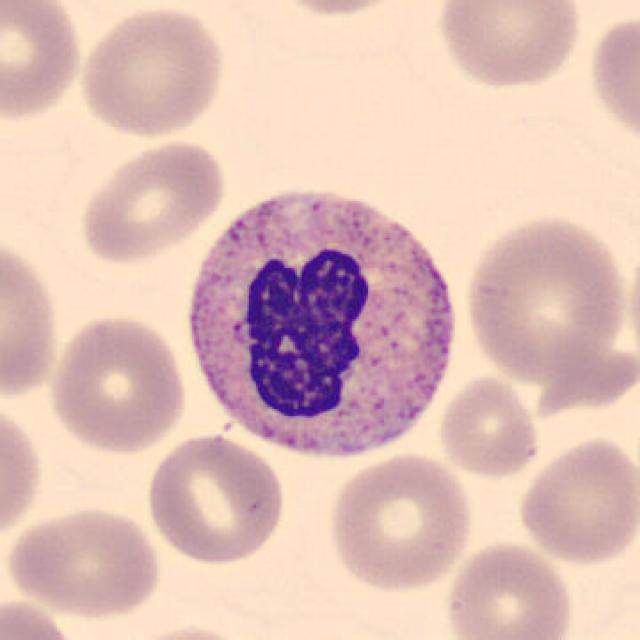Neutrophil: (176, 178, 469, 476)
RBC: (461, 212, 631, 386), (324, 448, 476, 596), (44, 310, 192, 457), (75, 2, 229, 141), (74, 136, 228, 266), (142, 430, 288, 566), (2, 501, 165, 622), (514, 432, 638, 568), (432, 0, 587, 92), (441, 537, 578, 640), (434, 372, 544, 480), (0, 229, 64, 404), (0, 0, 87, 127), (583, 7, 638, 153), (0, 395, 46, 548), (0, 594, 85, 640), (255, 0, 421, 19), (121, 622, 263, 640)
